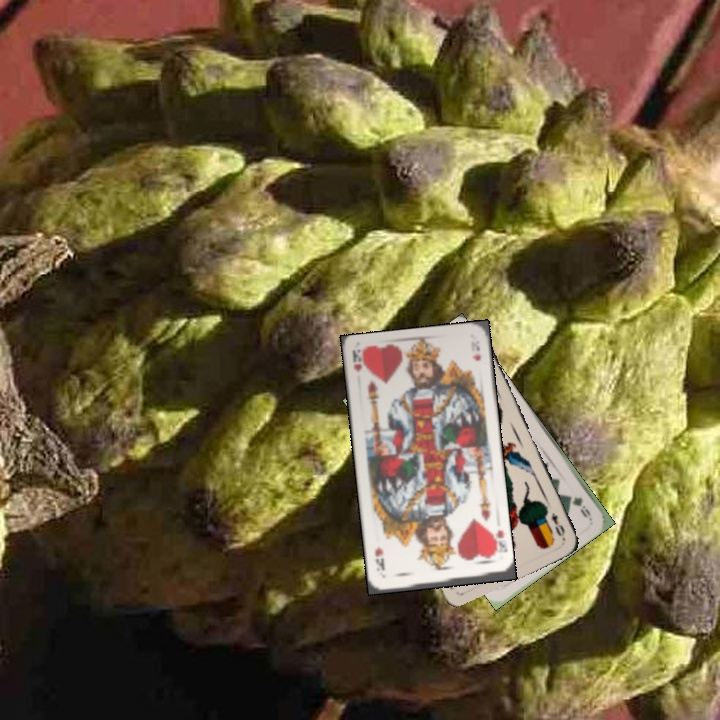EO: (547, 509, 568, 542)
G9: (565, 490, 594, 522)
HK: (486, 526, 508, 558), (348, 349, 365, 374)
